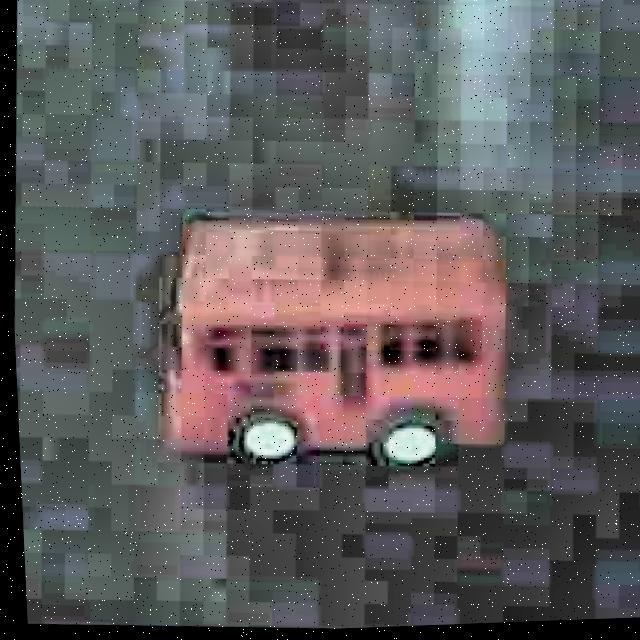bus: (138, 184, 523, 488)
